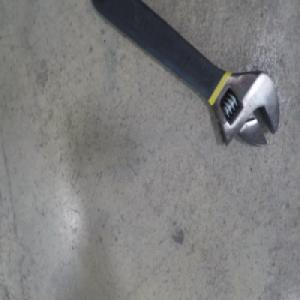AdjustableWrench: (91, 0, 277, 150)
